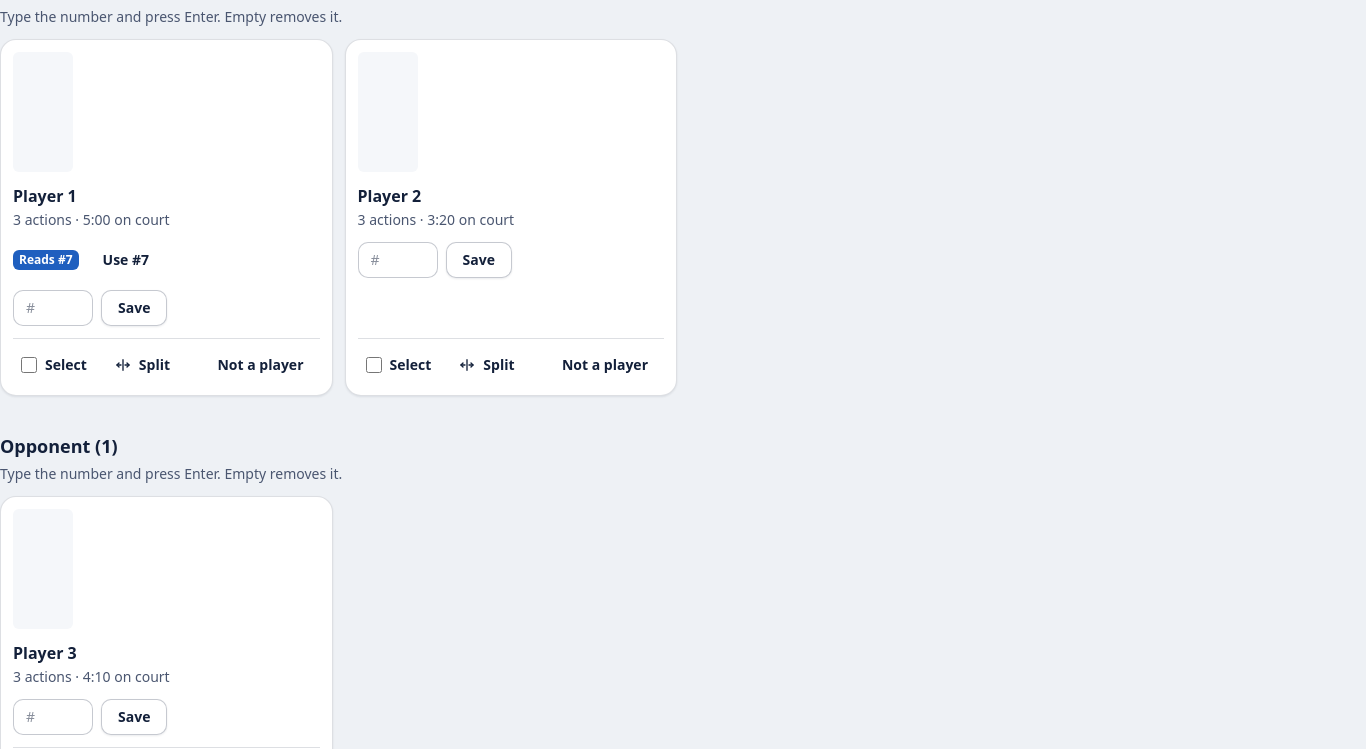
Test: PlayersPage › splits the stretches that show someone else into a new card
(page scrolled)
Click the button "Split" below "3:20 on court". click: (487, 365)
box: [443,347,530,383]
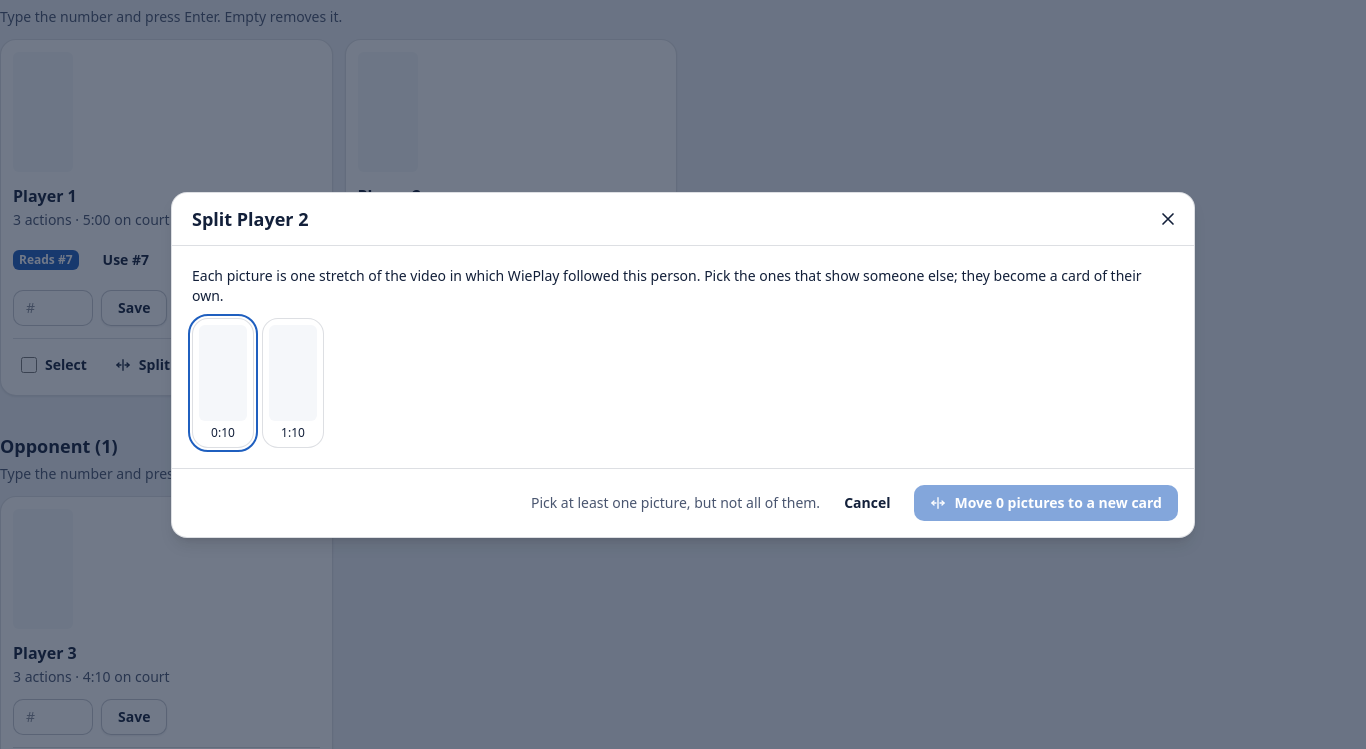
Now the button "Move 0 pictures to a new card" is disabled, box [914,485,1178,521]
Click the button named "1:10–1:40, 300 detections". click: (293, 383)
box: [262,318,324,448]
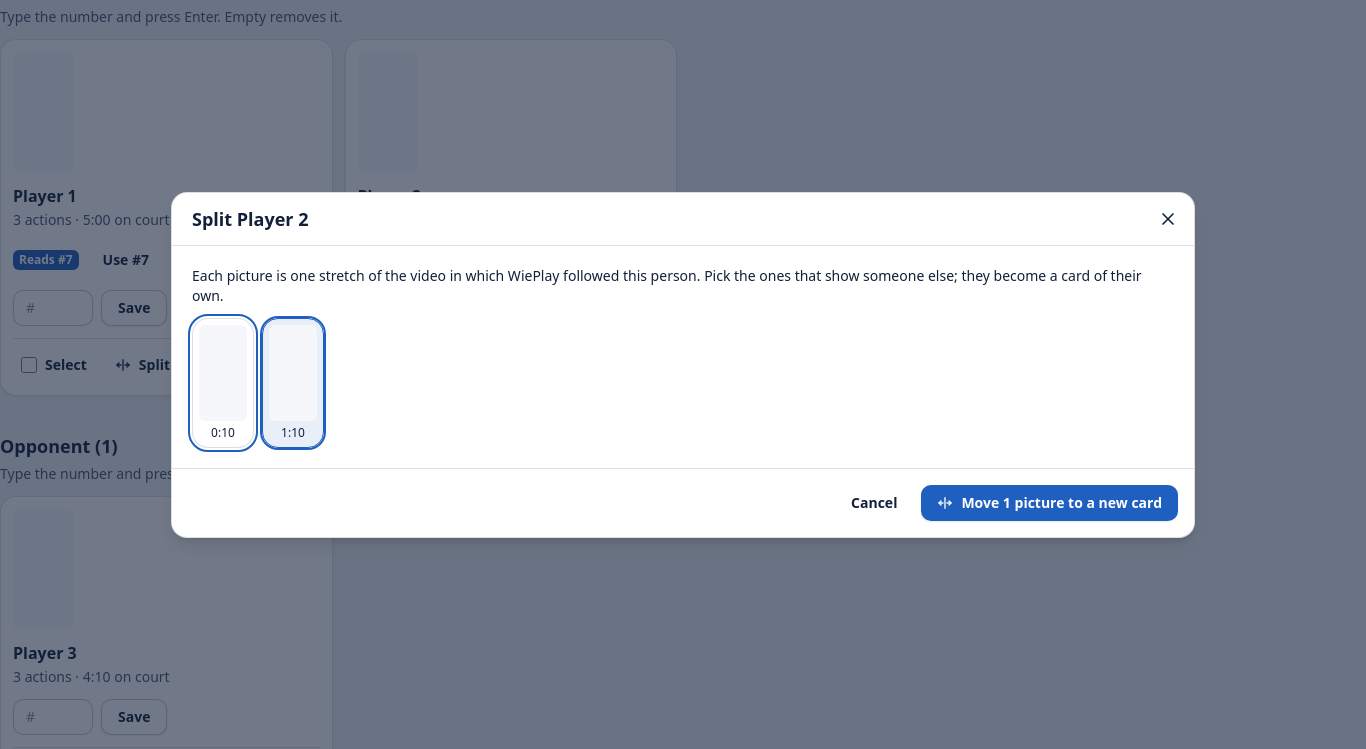
Click the button "Move 1 picture to a new card". click: (1050, 503)
box: [921,485,1178,521]
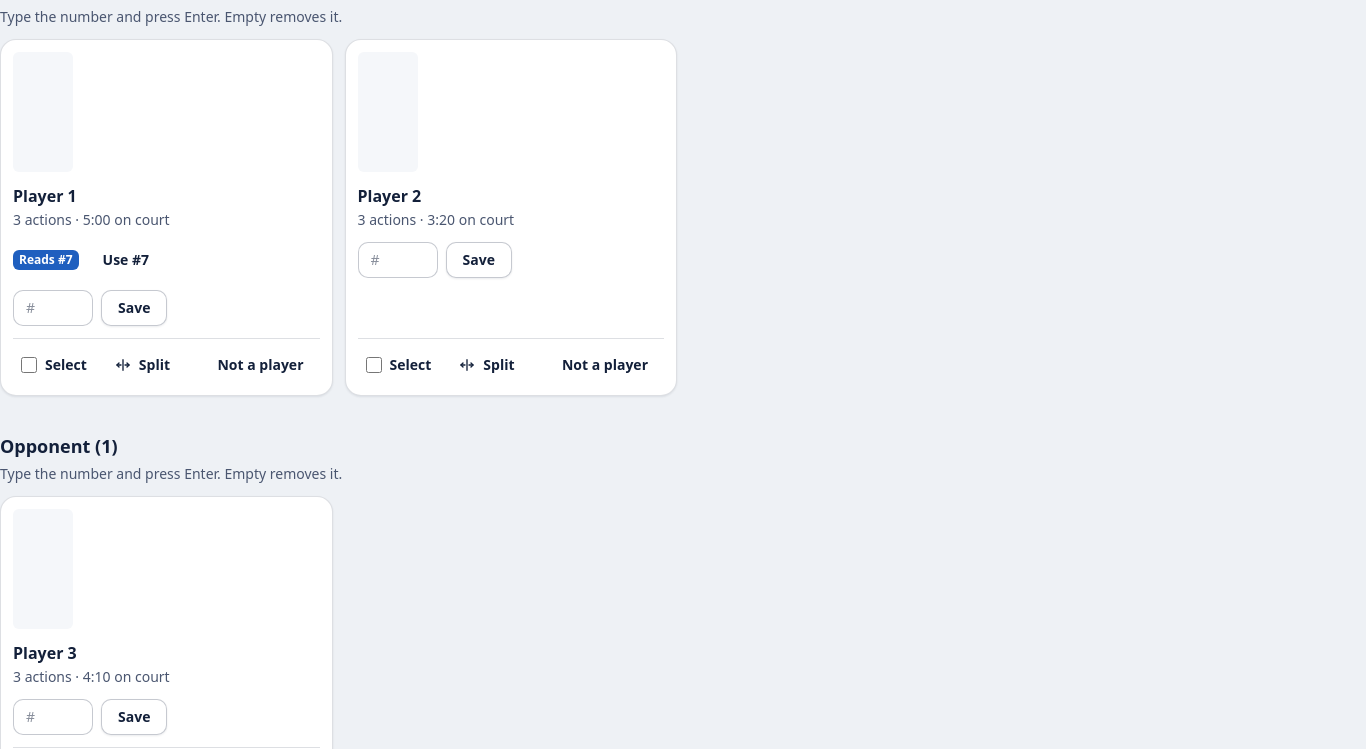
Now the dialog is gone
